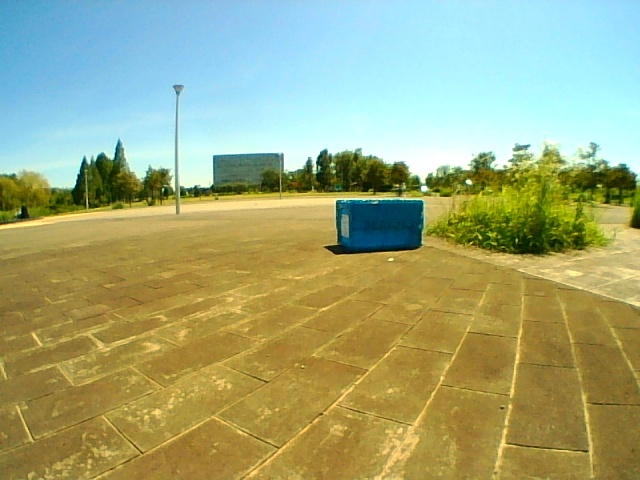blue_box: (337, 200, 421, 248)
tag: (341, 215, 349, 236)
